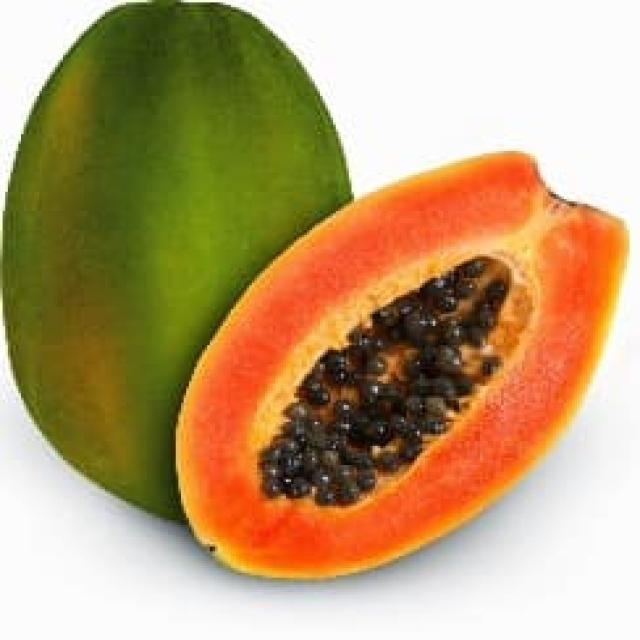Pepaya: (170, 146, 630, 580), (0, 0, 354, 523)
